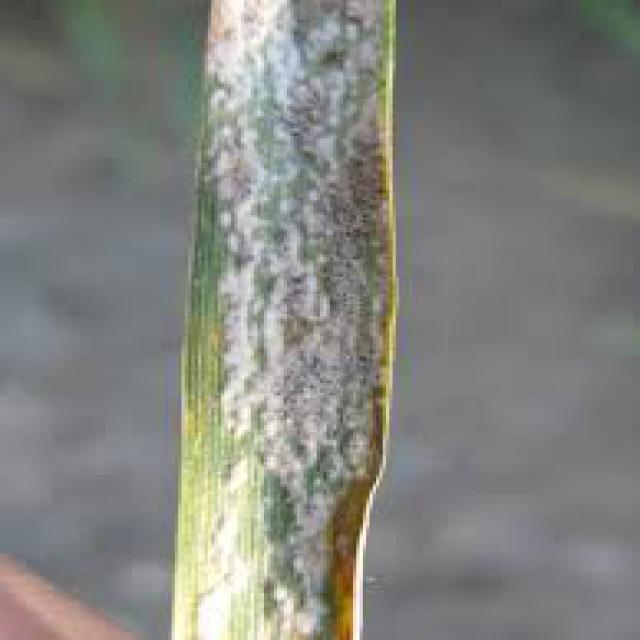wheat-powdery-mildew: (201, 0, 393, 637)
